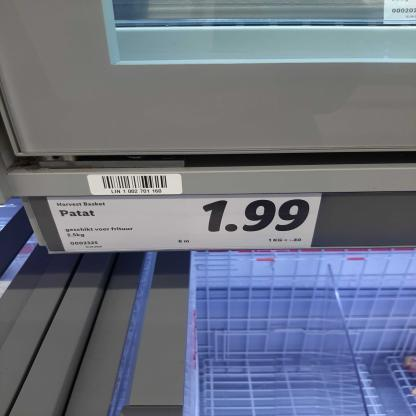prtg: (47, 194, 323, 253)
